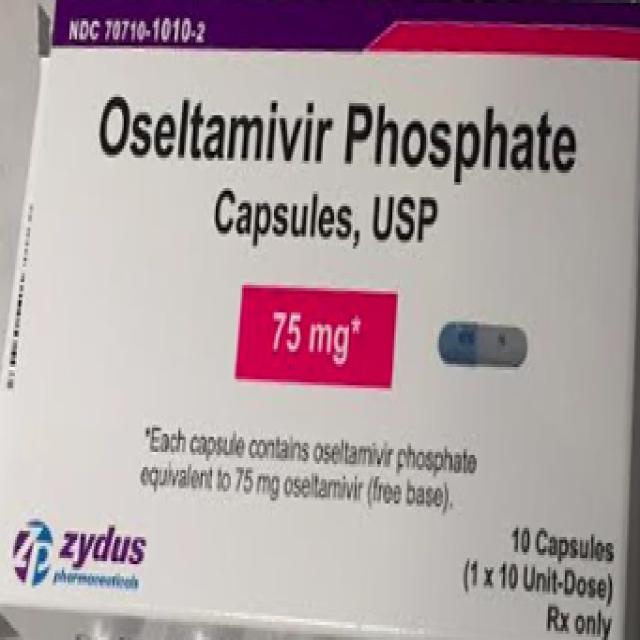drug-name: (92, 89, 578, 189)
